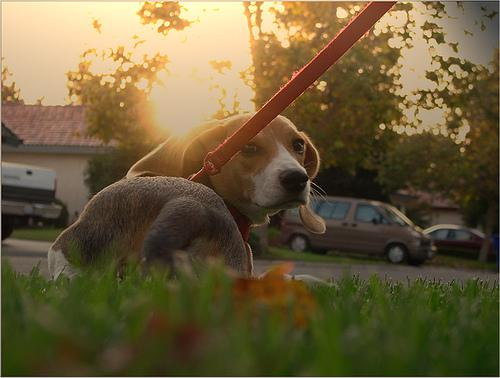dog-beagle: (180, 111, 324, 232)
